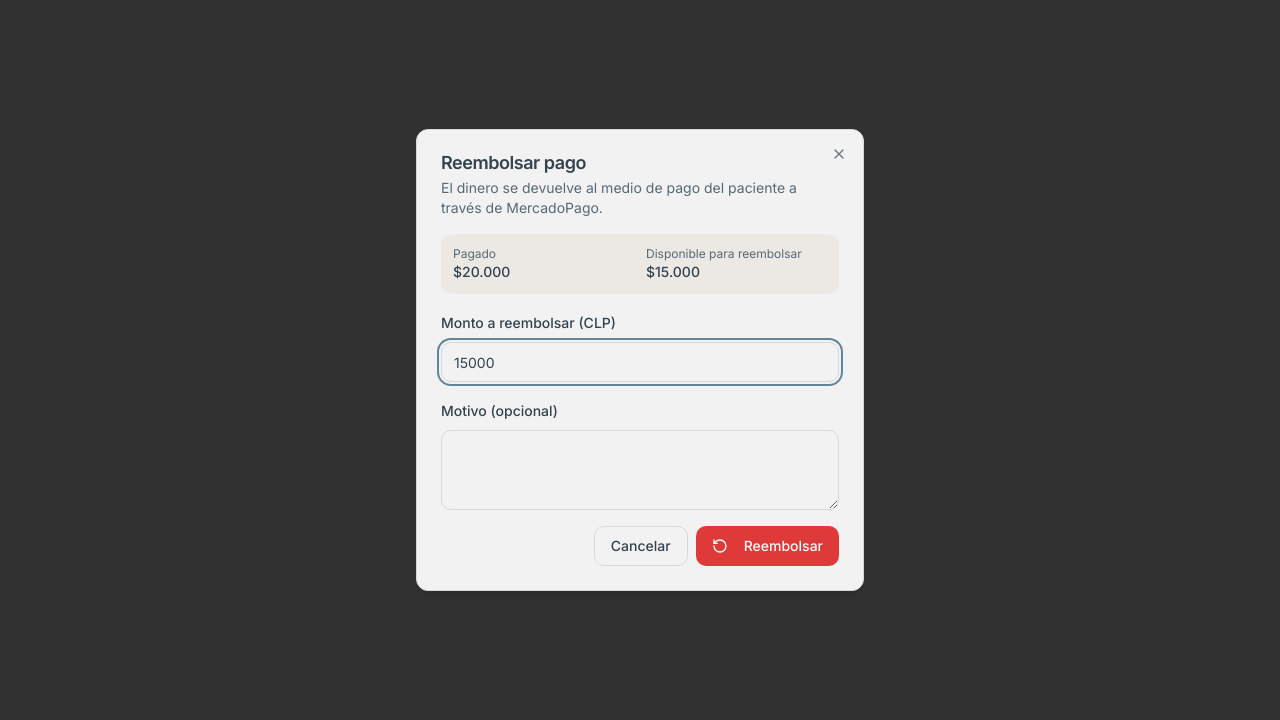
RefundDialog › descarta caracteres no numéricos
Replace the text in the field labelled "Monto a reembolsar (CLP)" with "5.000abc" at [640, 362], box [441, 342, 839, 382]
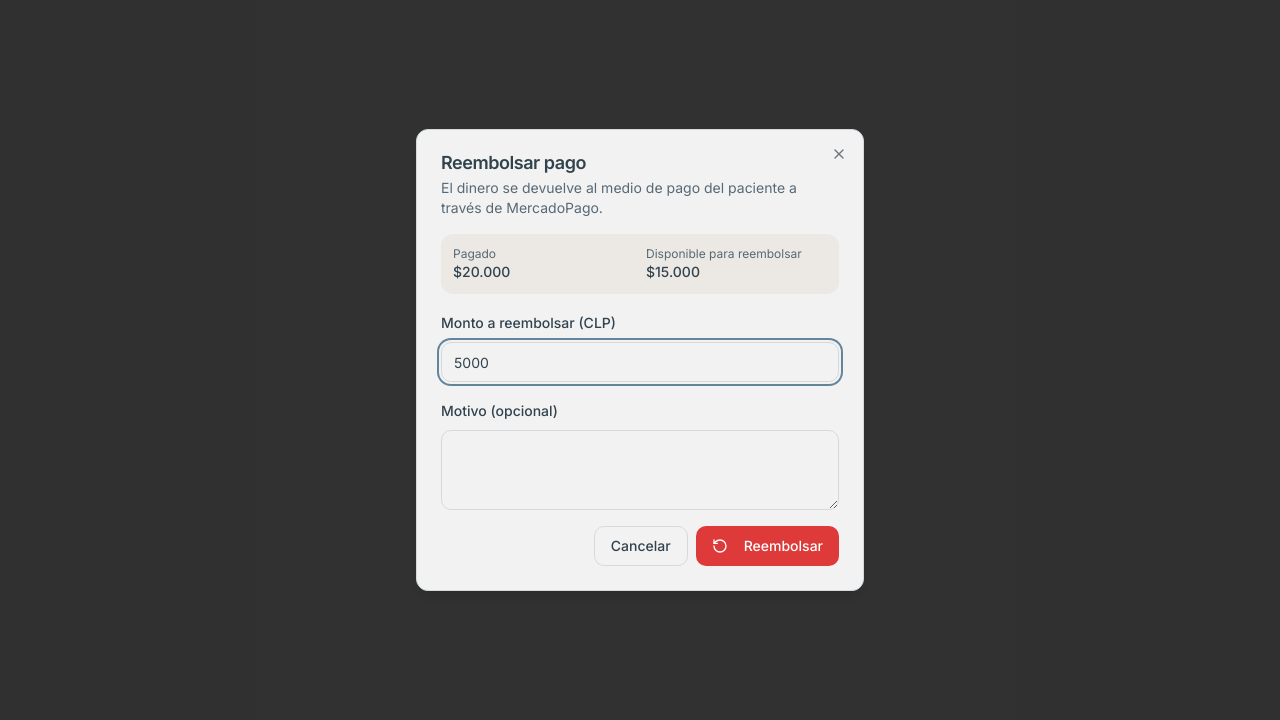
Expected: the field labelled "Monto a reembolsar (CLP)" holds "5000", [441, 342, 839, 382]
